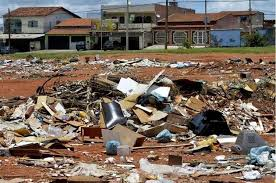rubble: (30, 78, 248, 151), (11, 55, 142, 72)
